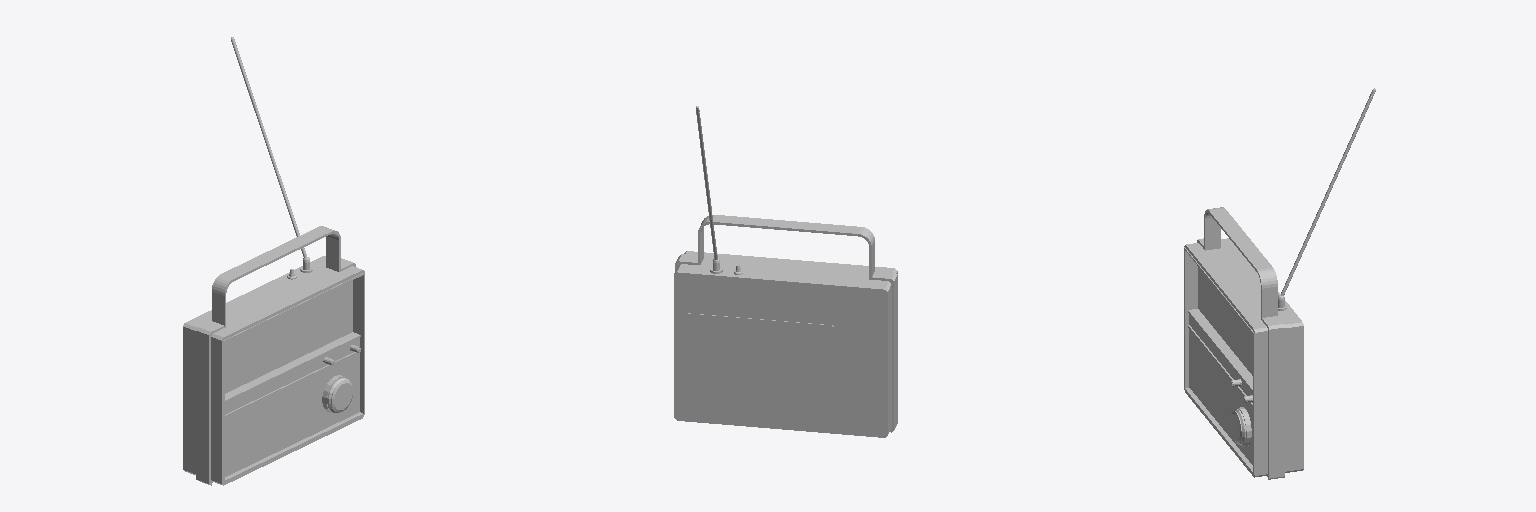
File: radio.obj
3 renders of one model, left to right at view 1: azimuth 30°, elevation 25°; view 2: azimuth 150°, elevation 25°; view 3: azimuth 270°, elevation 25°, orthographic.
Parts seen in each view (by area): view 1: Plane.098_Plane.110; view 2: Plane.098_Plane.110; view 3: Plane.098_Plane.110.
Part boxes in pixels (x1,y1,x2,y2): Plane.098_Plane.110: (183,37,364,485); Plane.098_Plane.110: (674,106,897,437); Plane.098_Plane.110: (1184,88,1375,479).
Bounding box in the file's own units: 1.66 × 2.93 × 1.43.